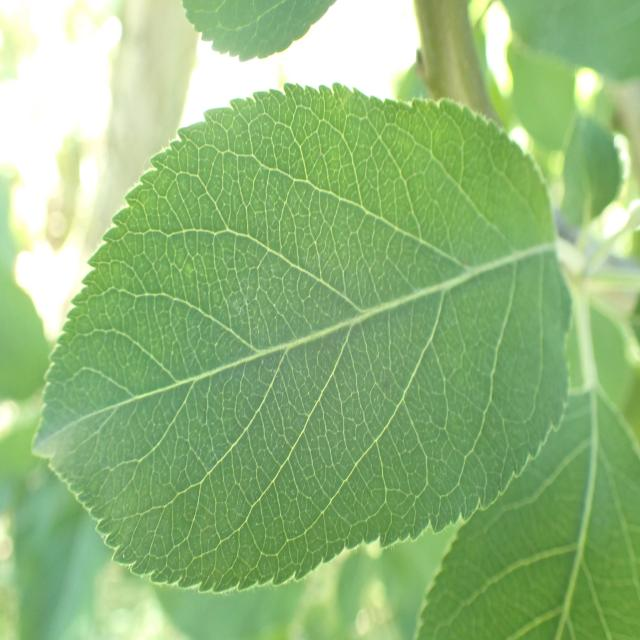healthy: (33, 81, 573, 596), (414, 383, 640, 640)
